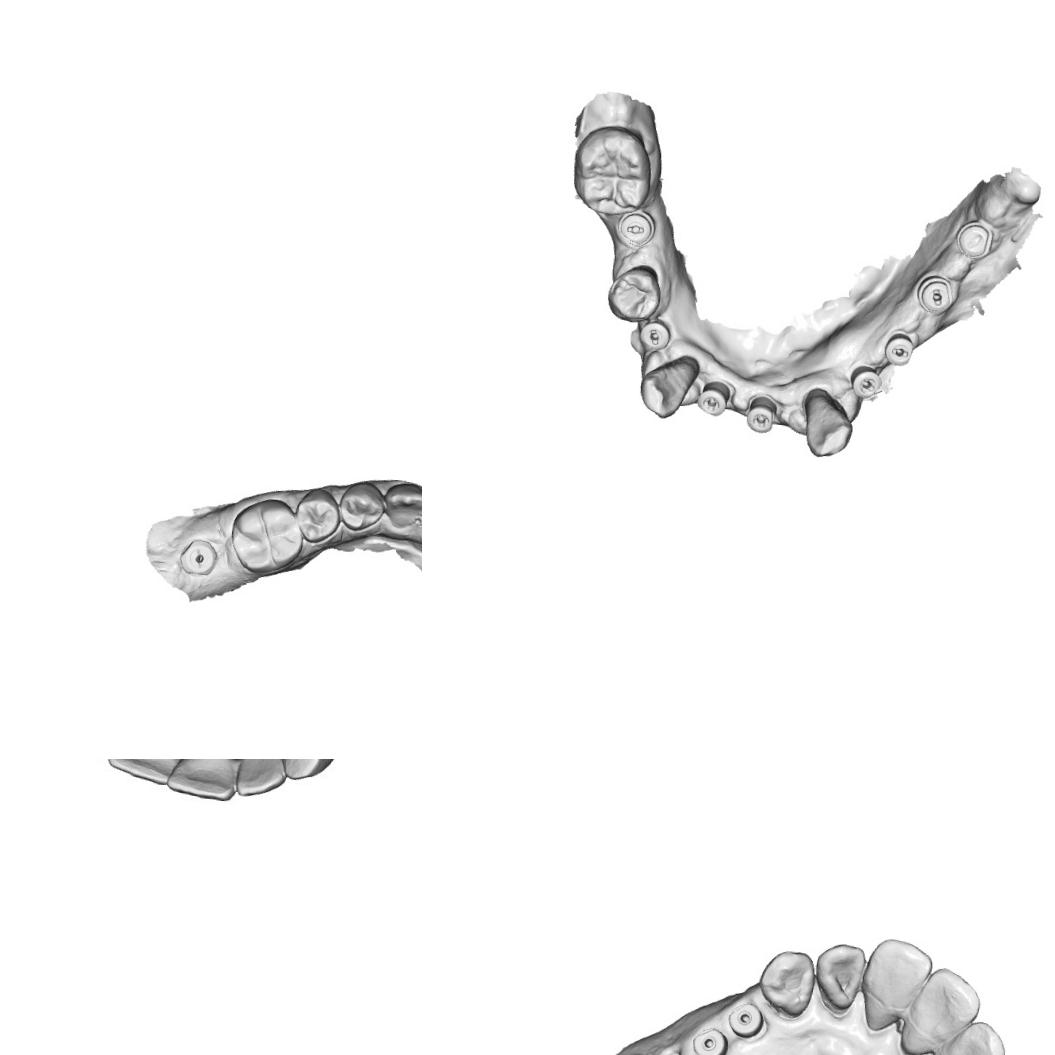canine: (636, 352, 701, 422), (756, 946, 817, 1018), (800, 386, 857, 460), (379, 480, 422, 531), (277, 759, 336, 782)
implant: (724, 1001, 766, 1040), (690, 1026, 729, 1055)
implant_minus: (175, 534, 220, 578), (912, 270, 956, 314), (614, 206, 657, 251), (952, 218, 996, 261), (881, 330, 916, 368), (636, 316, 672, 352)
implant_plus: (743, 392, 779, 436), (846, 363, 884, 402), (696, 378, 732, 418)
incisor: (860, 935, 933, 1026), (910, 963, 983, 1042), (811, 940, 867, 1018), (168, 759, 235, 803), (940, 1016, 1008, 1055), (234, 759, 287, 795), (109, 759, 175, 778)
molar: (568, 120, 655, 218), (227, 496, 307, 577)
premolar: (604, 262, 664, 324), (292, 484, 342, 545), (336, 478, 387, 534)
